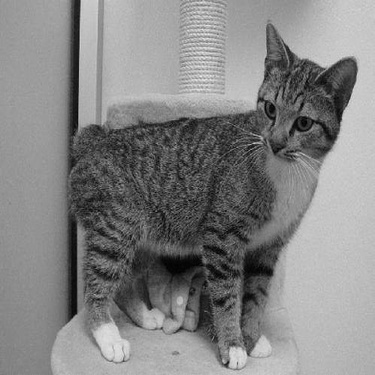cat: (66, 22, 357, 372)
